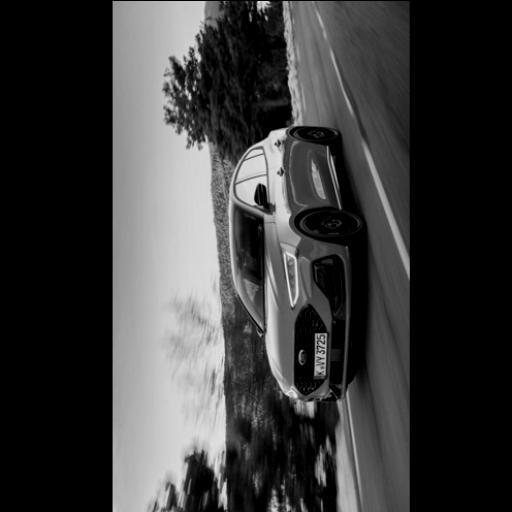hatchback: (228, 127, 363, 402)
